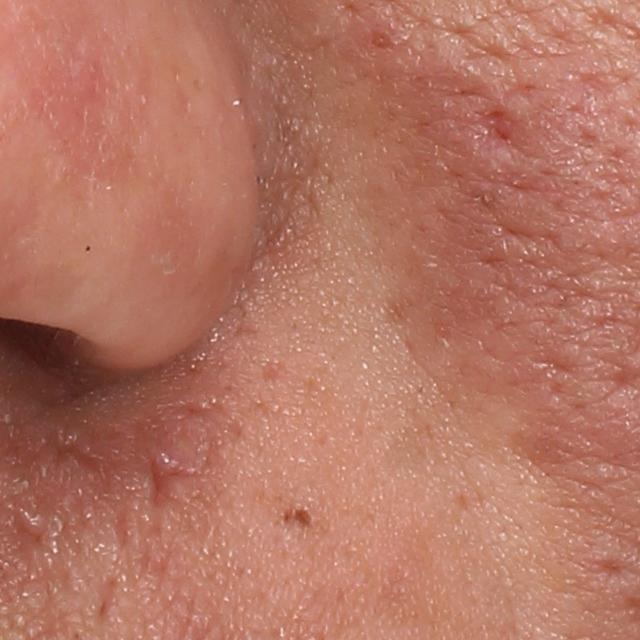atrophic_scar: (41, 421, 169, 499), (472, 106, 545, 171), (147, 449, 206, 510), (11, 505, 52, 564), (96, 568, 127, 629), (581, 553, 637, 583)
nevus: (283, 505, 313, 529)
